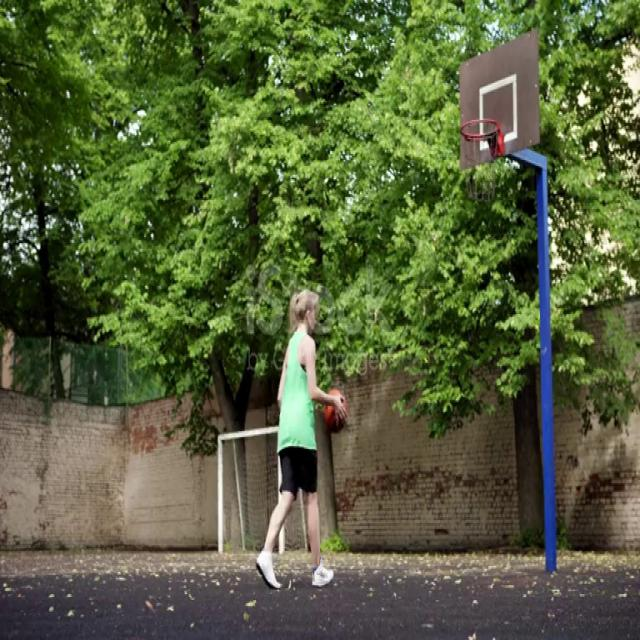ball: (322, 388, 349, 434)
